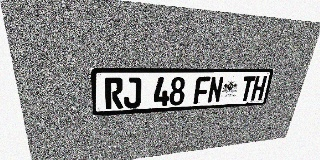4: (153, 77, 171, 107)
8: (169, 77, 186, 106)
F: (193, 77, 210, 104)
H: (250, 76, 267, 101)
J: (124, 77, 141, 108)
N: (207, 76, 224, 103)
R: (104, 78, 123, 109)
T: (239, 76, 256, 101)
